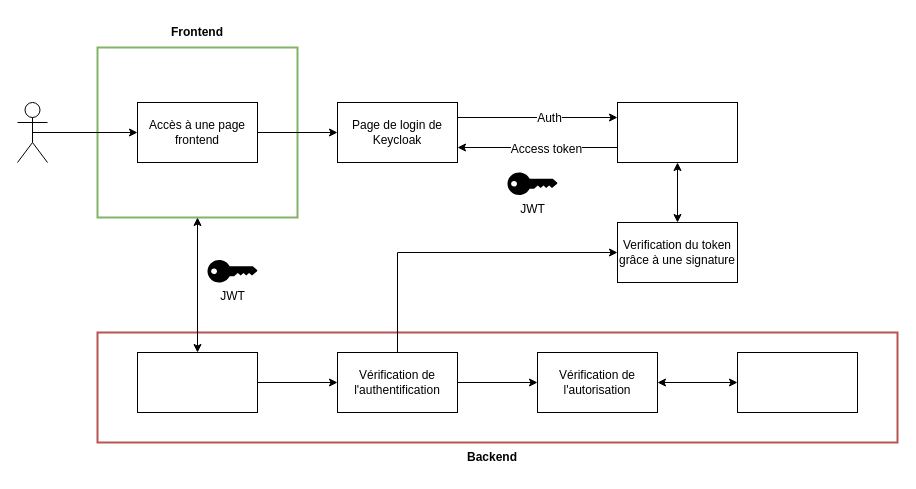
Some shapes in this 916 by 489 pixel diagram are drawn without their labels. The shapes that lost their labels are listed below. From the top down, each one's centre as x and y in pixels, then its label:
At point 32,132: "user".
At point 677,132: "Keycloak HEIG-VD".
At point 197,382: "/api/*".
At point 797,382: "Ressources API".
